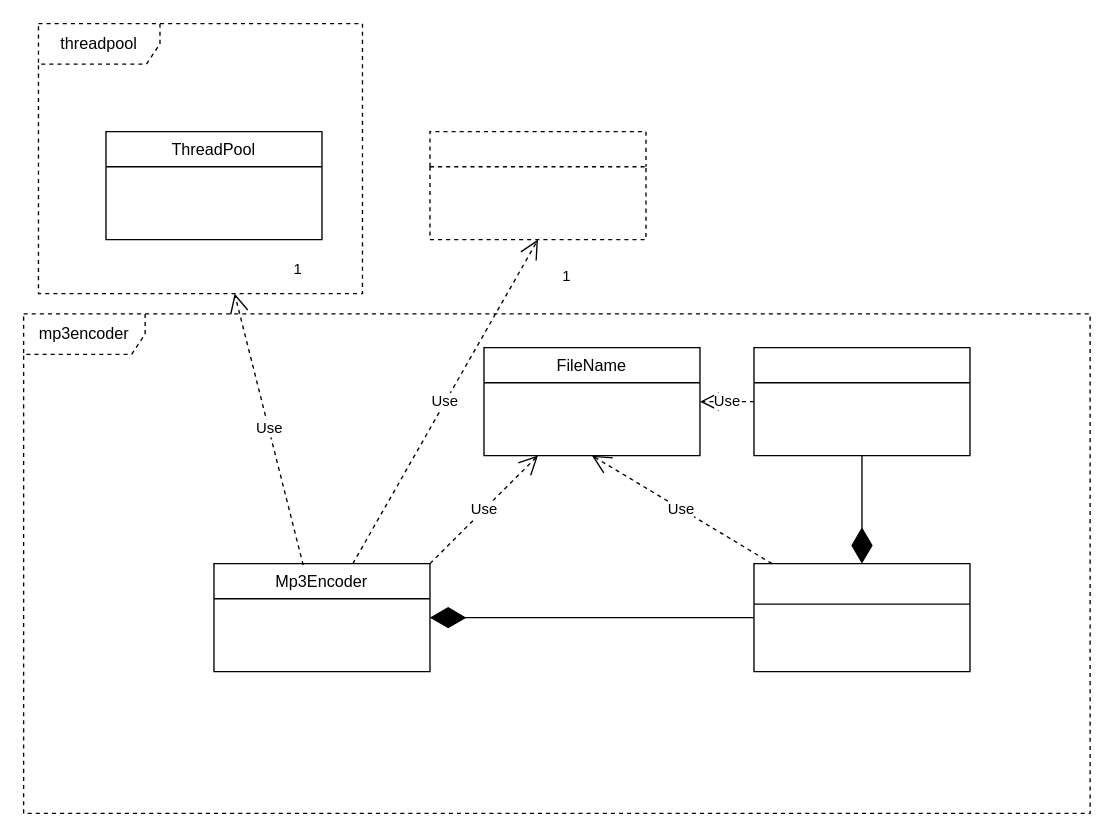
This 1114x837 diagram has some shape labels left out. Here are the shapes that lost their labels. From the top down, the box of each, then its label:
(429, 130, 646, 240): Lame
(753, 346, 970, 456): FileNameStore
(753, 562, 970, 672): WavFinder
